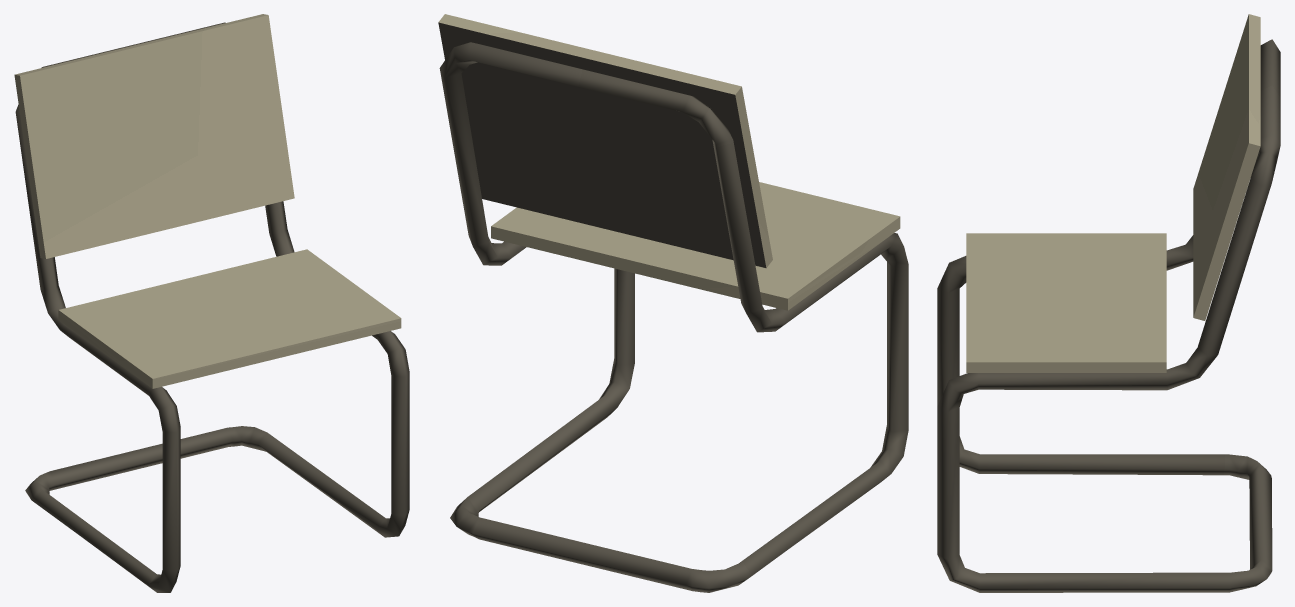
File: ComputerChair.glb
The picture shows the model from 3 angles, left to right: view 1: azimuth 30°, elevation 25°; view 2: azimuth 150°, elevation 25°; view 3: azimuth 270°, elevation 25°; orthographic projection. The views are drawn at different scales.
Visible parts, largest first — view 1: COMPUTERCHAIR; view 2: COMPUTERCHAIR; view 3: COMPUTERCHAIR.
Part boxes in pixels (x1,y1,x2,y2): COMPUTERCHAIR: [14, 14, 409, 592]; COMPUTERCHAIR: [438, 14, 908, 592]; COMPUTERCHAIR: [937, 14, 1280, 592].
Bounding box in the file's own units: 0.518 × 0.851 × 0.582.
1 material, 1 textured.
